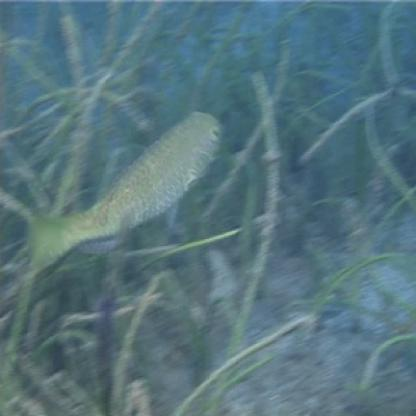Scaridae -Parrotfishes-: (23, 108, 227, 285)
